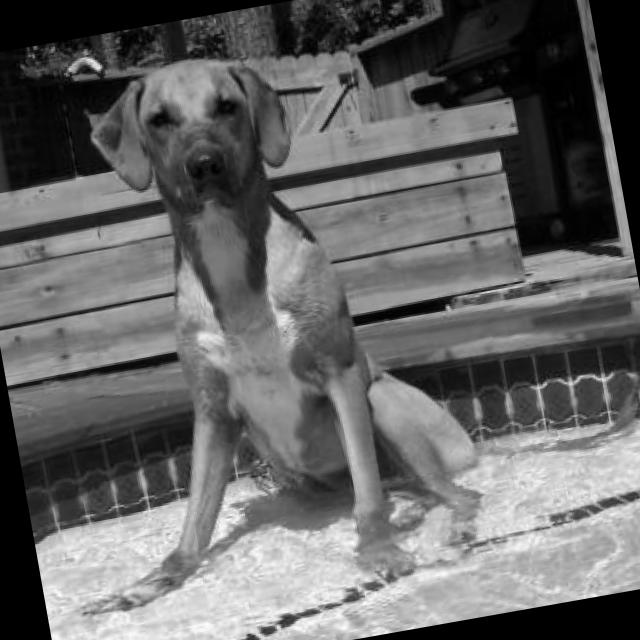sitting: (0, 10, 516, 634)
